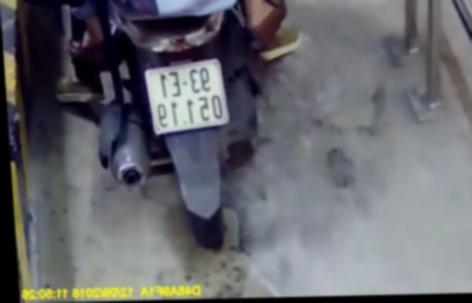License_Plate: (141, 56, 235, 139)
